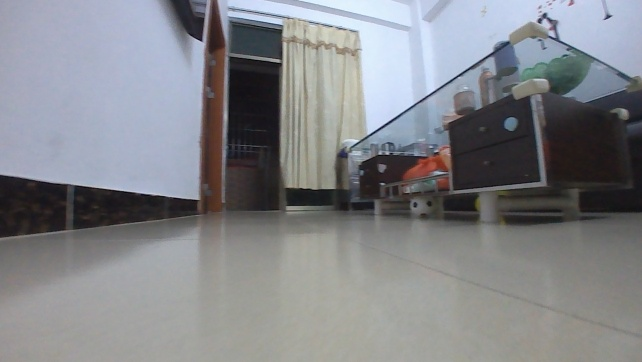tea_table: (345, 19, 641, 224)
